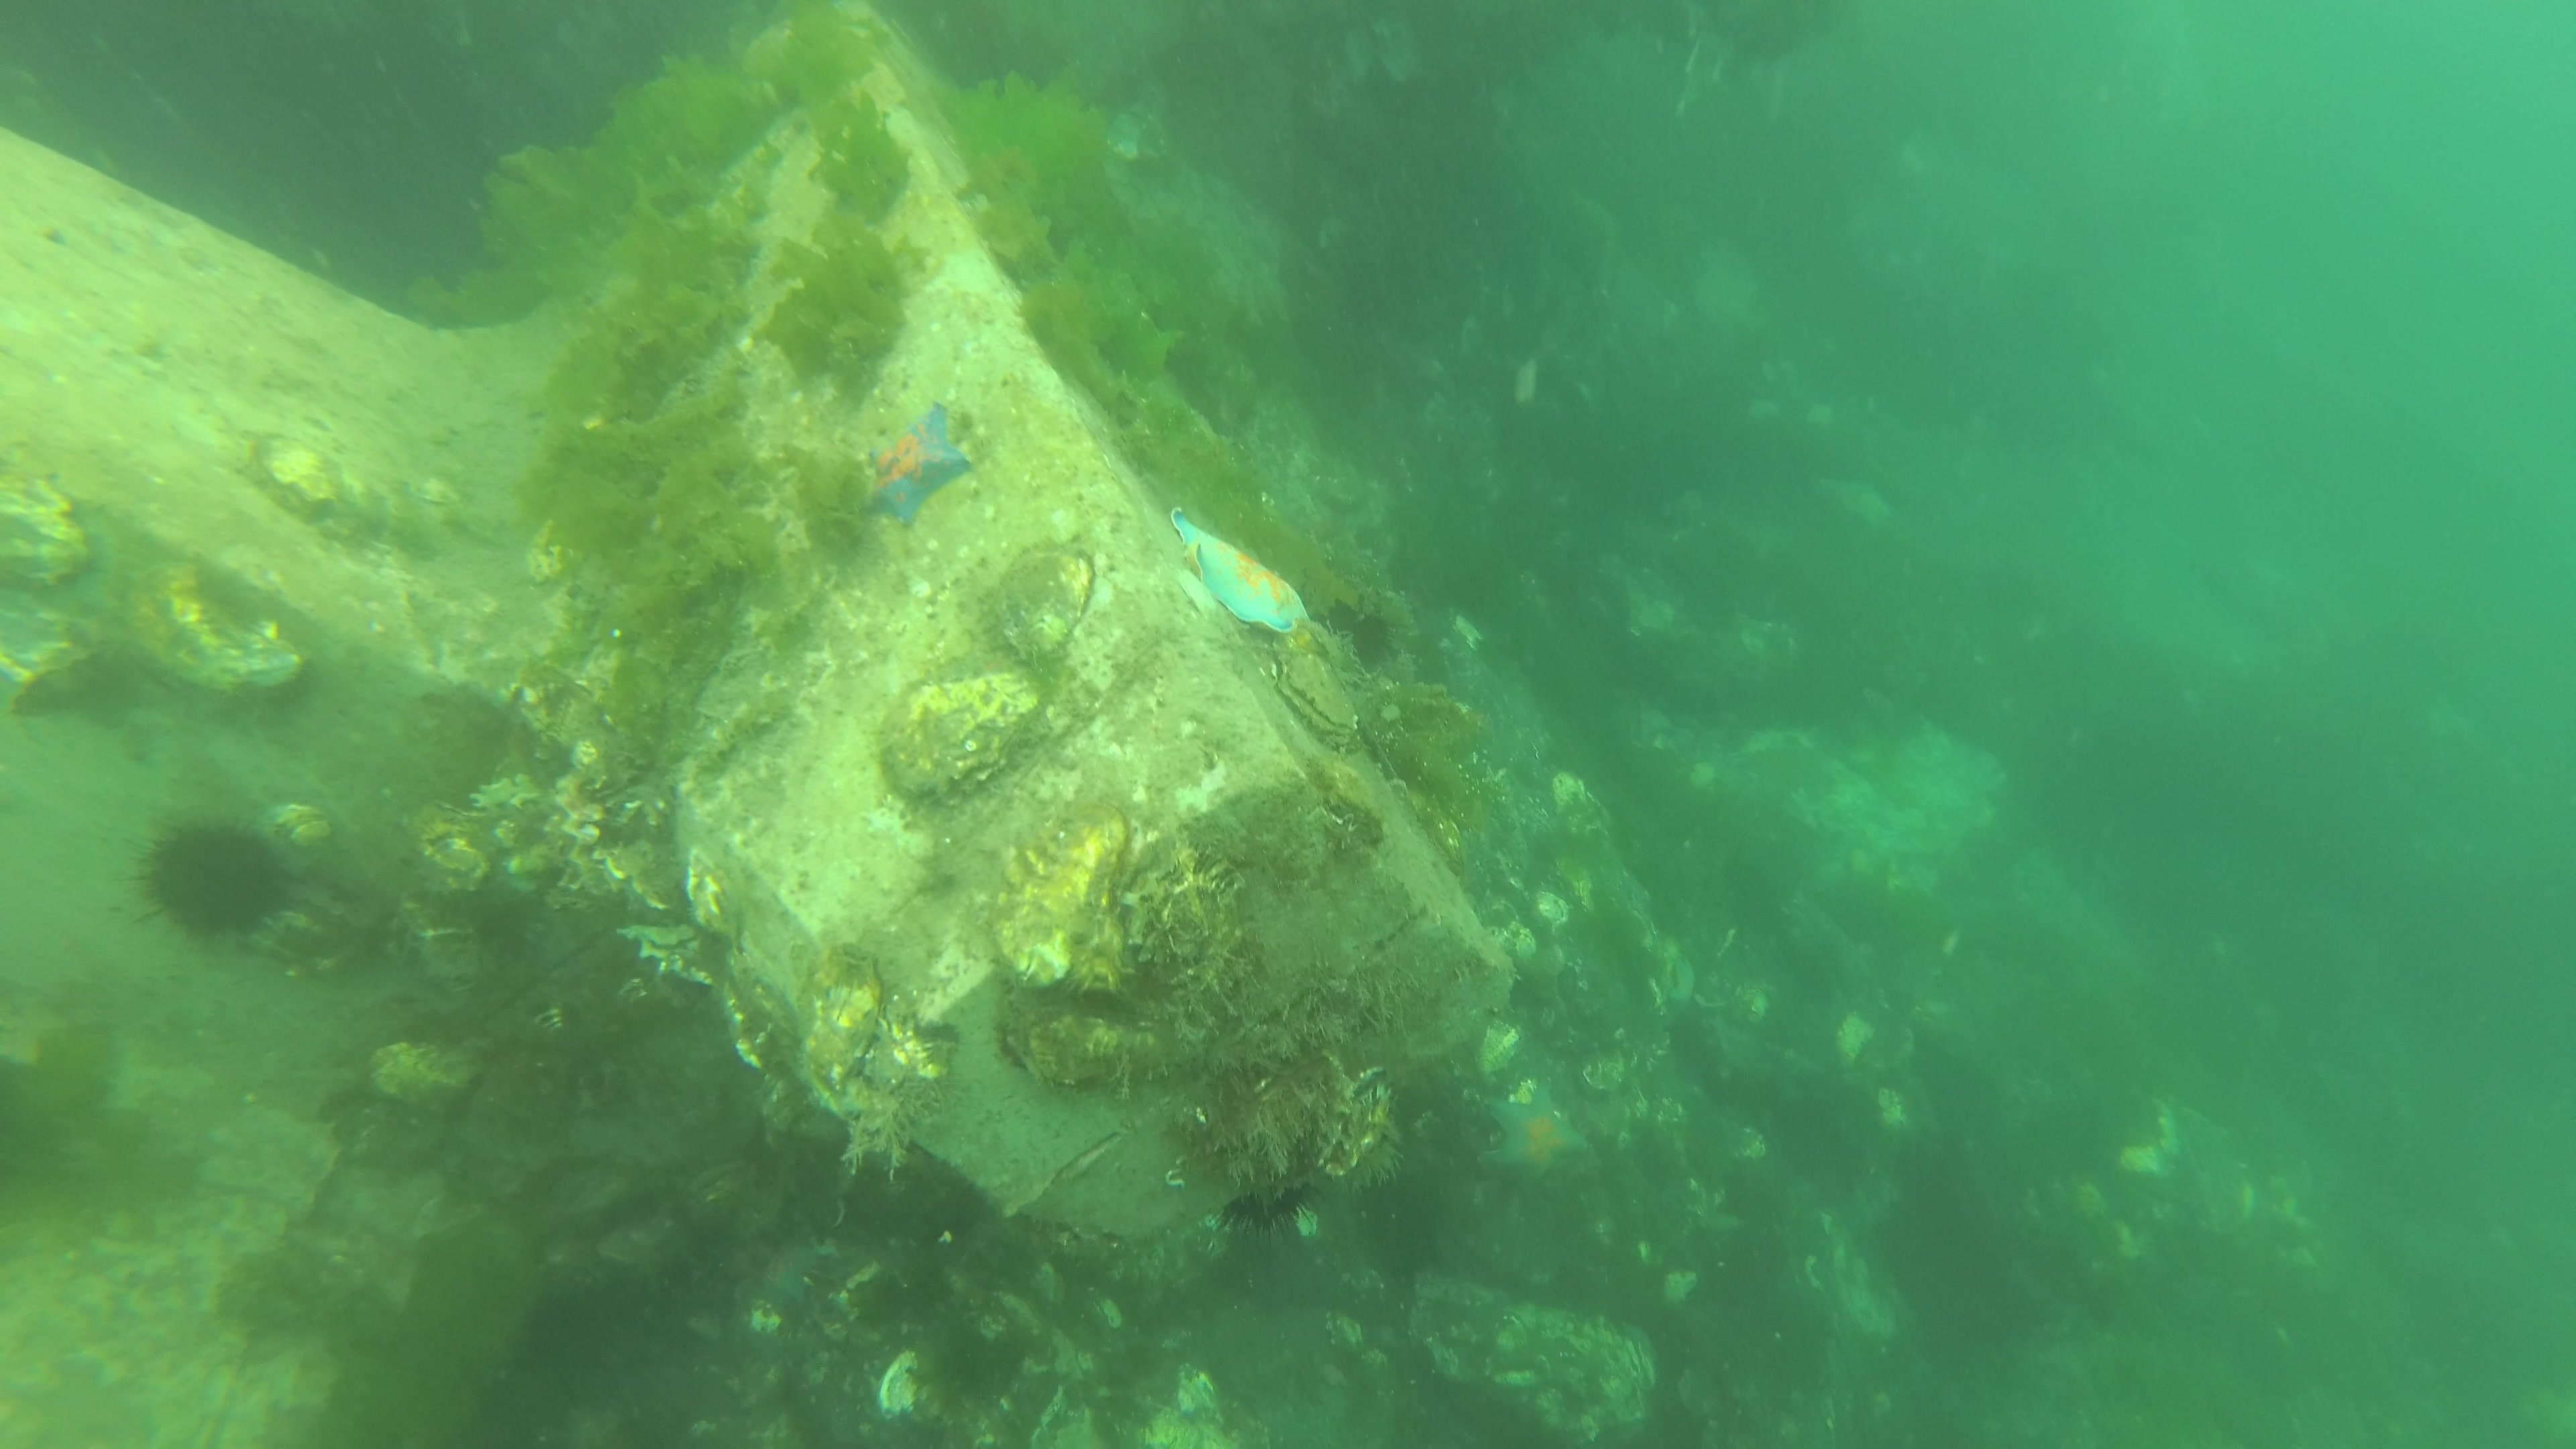echinus: (131, 805, 306, 945), (1322, 593, 1405, 672), (1214, 1184, 1322, 1244)
starfish: (1162, 502, 1316, 640), (865, 400, 970, 533), (1474, 1081, 1596, 1191), (750, 1233, 828, 1316), (1663, 952, 1698, 1031)
